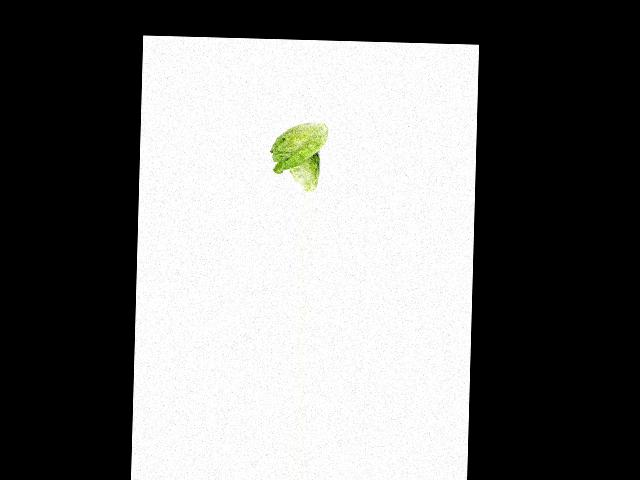lettuce: (287, 151, 323, 193)
